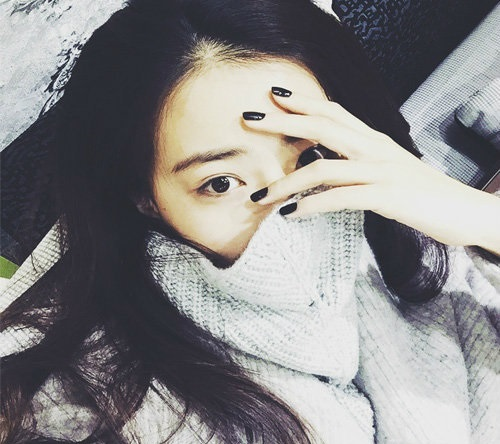face_mask: (159, 70, 358, 328)
